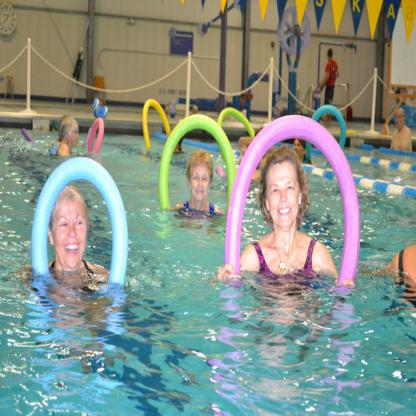face: (56, 206, 88, 269), (268, 168, 300, 227), (191, 166, 211, 201), (240, 146, 250, 170), (294, 140, 304, 159), (70, 127, 79, 147), (397, 112, 404, 129)
